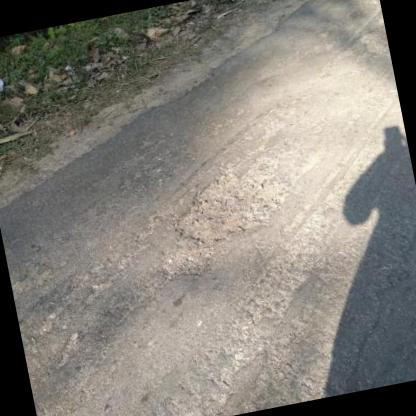pothole: (160, 156, 293, 252), (158, 242, 220, 286)
